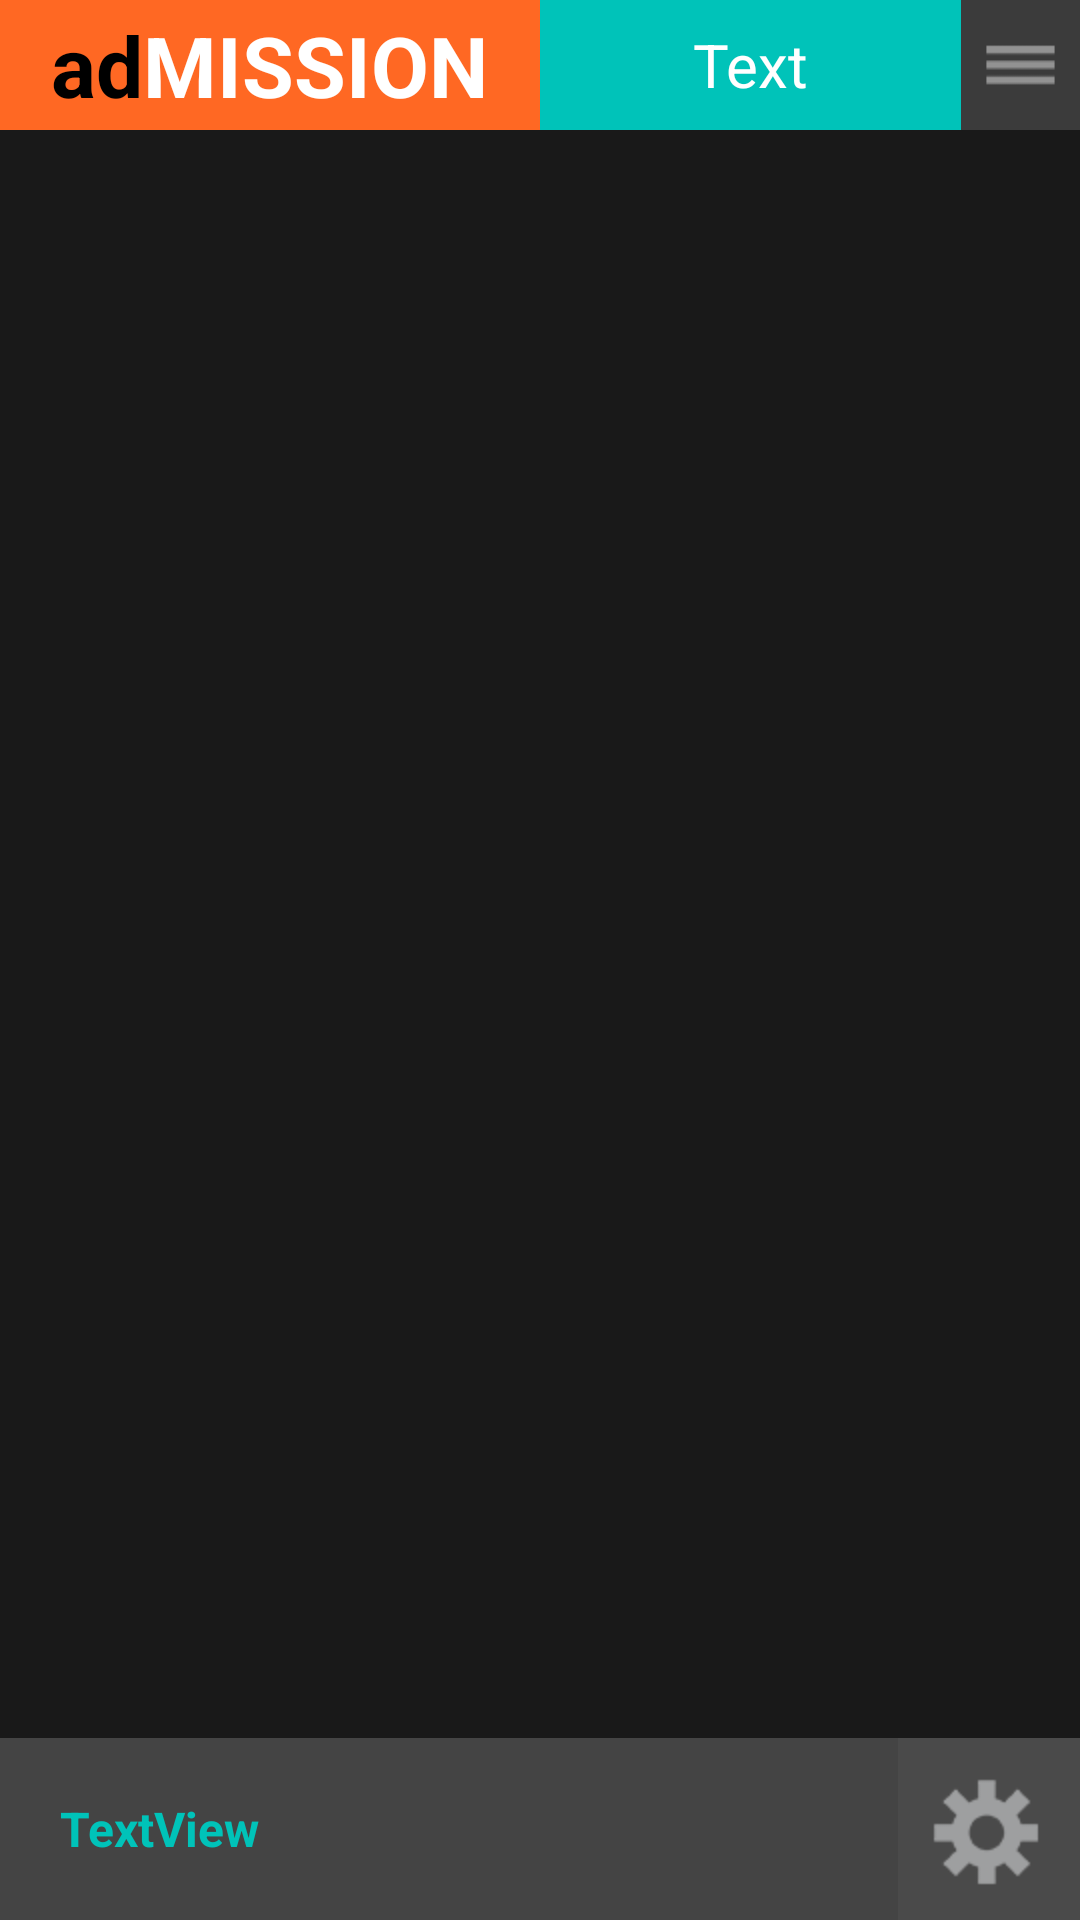

Where to tap for icons on this 1080×1920 app screen, as (x,y):
menu: (1020,65)
